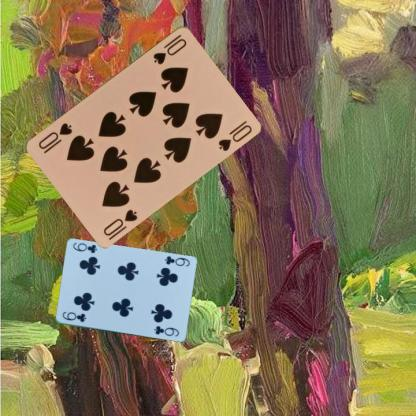10s: (150, 31, 188, 66), (101, 206, 139, 237)
6c: (60, 309, 87, 324), (162, 254, 190, 268)
